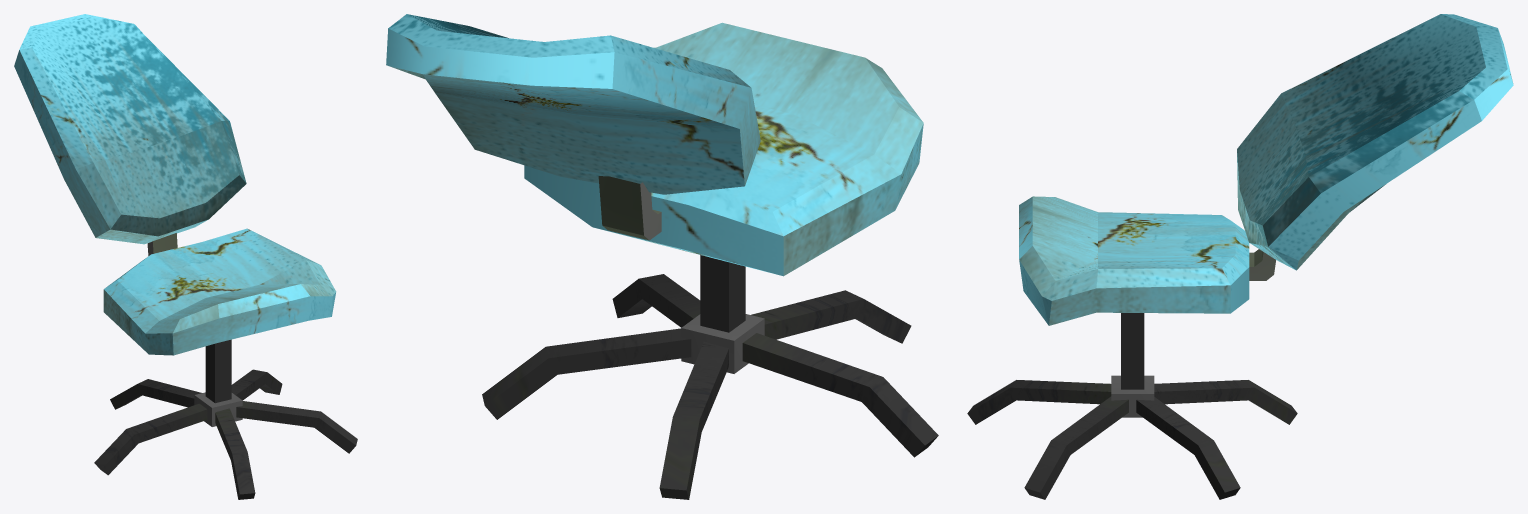
The model's file is pc_chair4.fbx.
3 views of the same model, side by side, from view 1: azimuth 30°, elevation 25°; view 2: azimuth 150°, elevation 25°; view 3: azimuth 270°, elevation 25° (orthographic). The views are drawn at different scales.
Parts seen in each view (by area): view 1: pc_chair4; view 2: pc_chair4; view 3: pc_chair4.
Boxes of the visible parts, <box> form: pc_chair4: <box>14,14,357,499</box>; pc_chair4: <box>386,14,938,499</box>; pc_chair4: <box>967,14,1513,499</box>.
Size of the model in its own units: 55.18 by 76.16 by 95.92.
